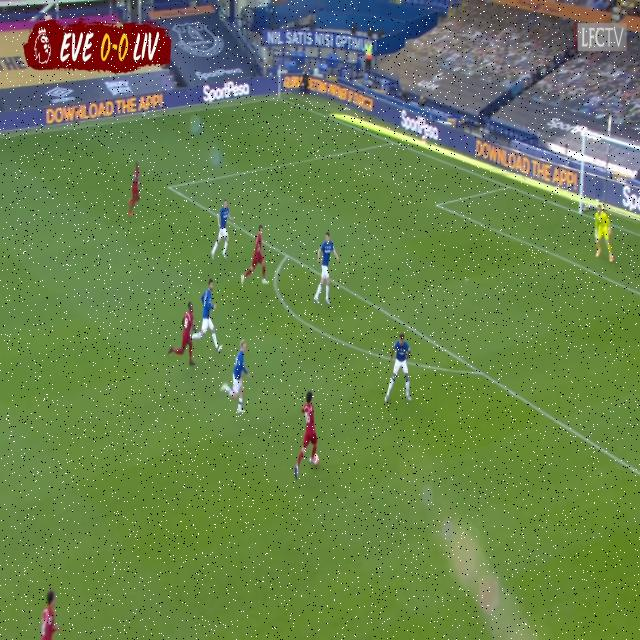Ball: (313, 452, 319, 466)
GoalKeeper: (592, 206, 614, 263)
TEAM 1: (295, 393, 321, 480), (169, 301, 199, 364), (241, 225, 269, 288), (38, 589, 58, 639), (127, 162, 143, 217)
TEAM 2: (224, 339, 251, 415), (386, 334, 414, 406), (195, 278, 220, 354), (315, 233, 337, 305), (212, 198, 233, 262)
